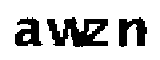a: (11, 16, 43, 51)
n: (117, 16, 149, 51)
w: (44, 16, 89, 50)
z: (89, 17, 112, 52)
